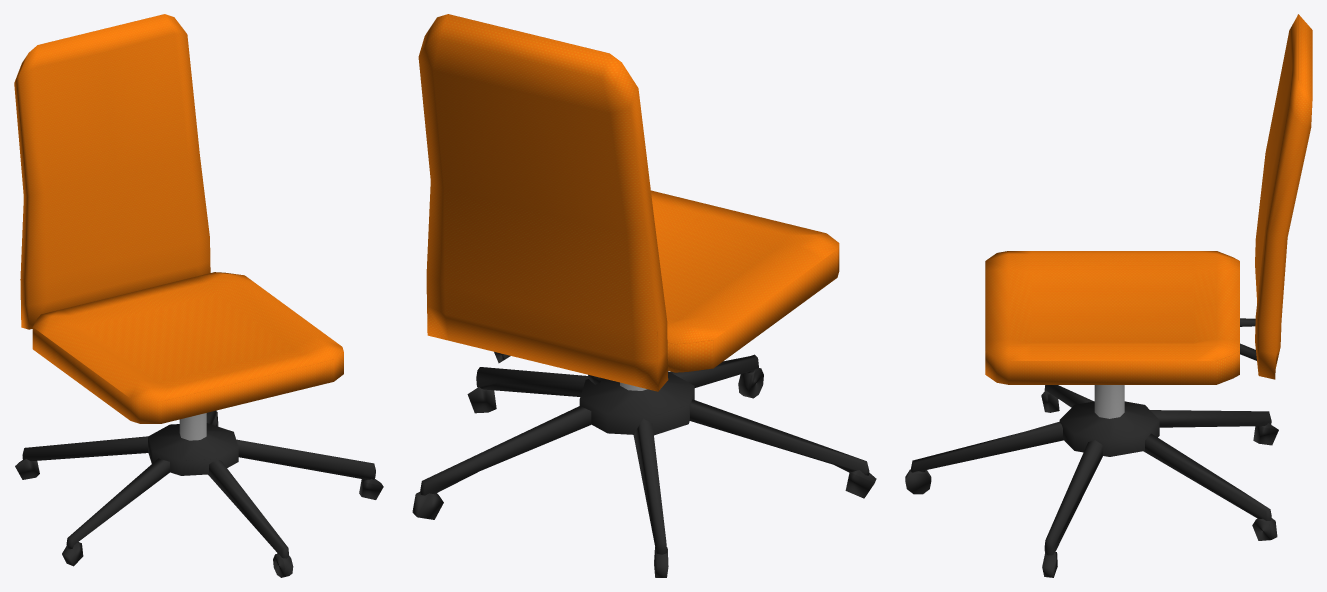
The model's file is Cadeiras-LAB-telma(trevo) (1) 2.fbx.
3 renders of one model, left to right at view 1: azimuth 30°, elevation 25°; view 2: azimuth 150°, elevation 25°; view 3: azimuth 270°, elevation 25°, orthographic. The views are drawn at different scales.
Visible parts, largest first — view 1: ALMOFADA LARANJA.001, ALMOFADA LARANJA SENTAR, SUPORTE PRETO DA CADEIRA; view 2: ALMOFADA LARANJA.001, ALMOFADA LARANJA SENTAR, SUPORTE PRETO DA CADEIRA; view 3: ALMOFADA LARANJA SENTAR, SUPORTE PRETO DA CADEIRA, ALMOFADA LARANJA.001.
Boxes of the visible parts, x1,y1,x2,y2 form: ALMOFADA LARANJA.001: (14,14,210,329); ALMOFADA LARANJA SENTAR: (32,272,343,423); SUPORTE PRETO DA CADEIRA: (15,410,383,577); ALMOFADA LARANJA.001: (418,14,668,391); ALMOFADA LARANJA SENTAR: (651,190,839,372); SUPORTE PRETO DA CADEIRA: (412,352,876,577); ALMOFADA LARANJA SENTAR: (985,251,1239,384); SUPORTE PRETO DA CADEIRA: (905,318,1278,577); ALMOFADA LARANJA.001: (1255,14,1312,379).
Size of the model in its own units: 1.42 by 1.78 by 1.47.
4 materials, 4 textured.
